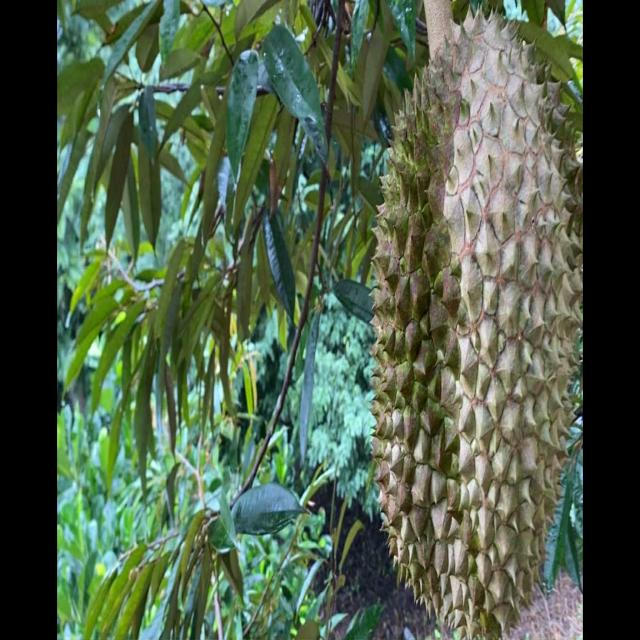RIPE: (373, 2, 584, 637)
